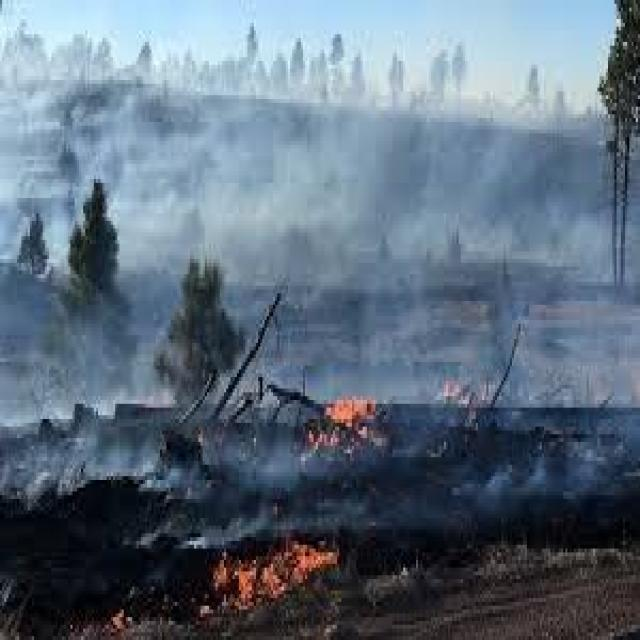Fire: (296, 544, 342, 582), (329, 397, 376, 428), (238, 558, 256, 608), (264, 563, 284, 597)
Smoke: (28, 67, 630, 346)
